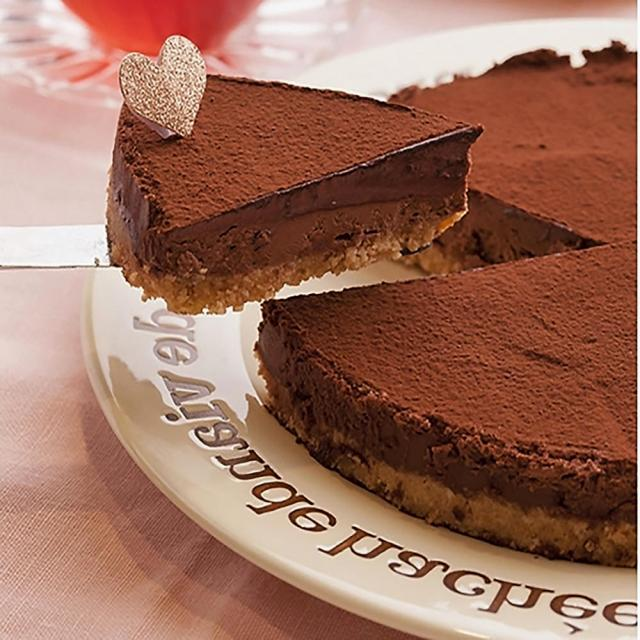chocolatecake: (92, 0, 640, 578)
